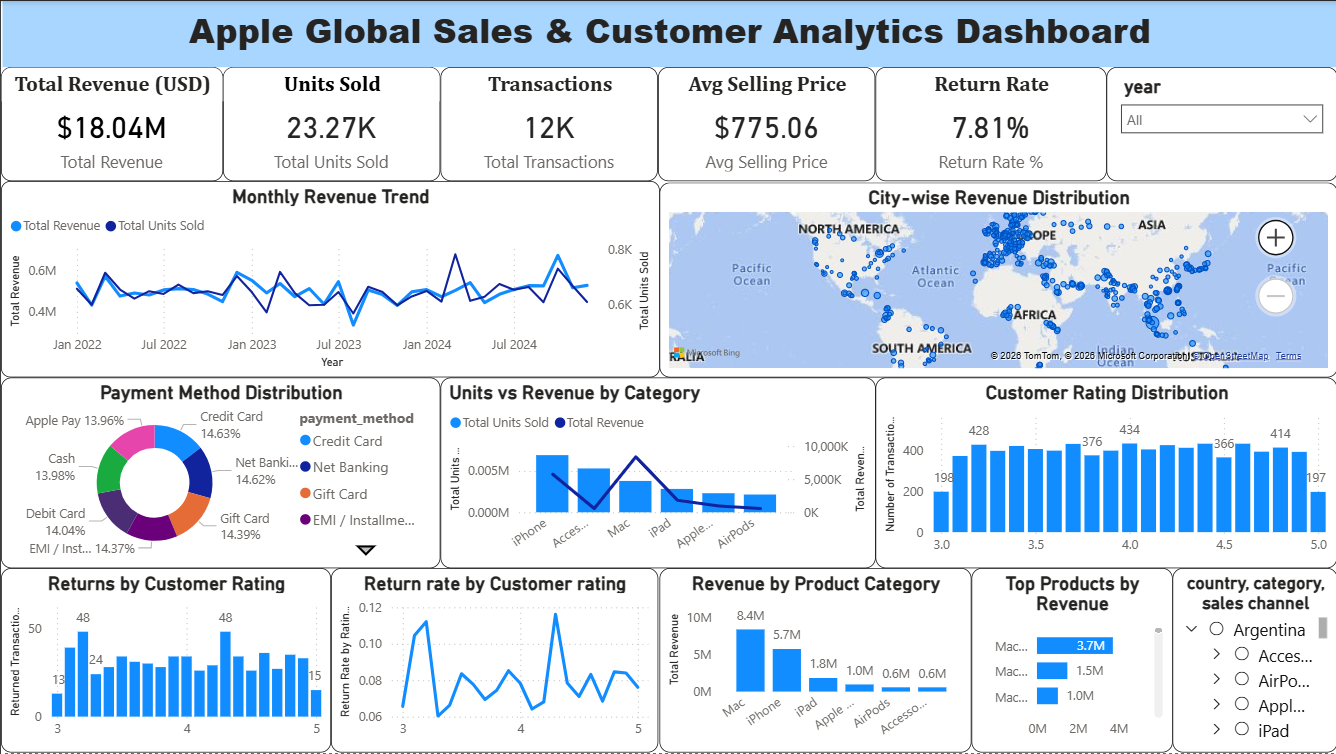

Layout of this report page (visuals, bound fields, positions):
{"tool":"powerbi","page":{"name":"BUSINESS INSIGHTS","canvas":[1280,720],"ordinal":0},"visuals":[{"type":"card","title":"Total Revenue (USD)","fields":{"Values":["apple_global_sales_dataset.Total Revenue"]},"box":[0,63.2,212.5,109.1],"z":0},{"type":"card","title":"Units Sold       ","fields":{"Values":["apple_global_sales_dataset.Total Units Sold"]},"box":[212.5,63.2,208.2,109.1],"z":1000},{"type":"card","title":"Transactions","fields":{"Values":["apple_global_sales_dataset.Total Transactions"]},"box":[420.8,63.2,208.2,109.1],"z":2000},{"type":"card","title":"Avg Selling Price","fields":{"Values":["apple_global_sales_dataset.Avg Selling Price"]},"box":[629,63.2,208.2,109.1],"z":3000},{"type":"card","title":"Return Rate","fields":{"Values":["apple_global_sales_dataset.Return Rate %"]},"box":[837.2,63.2,221.2,109.1],"z":4000},{"type":"slicer","fields":{"Values":["apple_global_sales_dataset.year"]},"box":[1058.4,63.2,221.2,109.1],"z":5000},{"type":"lineChart","title":"Monthly Revenue Trend","fields":{"Y":["apple_global_sales_dataset.Total Revenue"],"Y2":["apple_global_sales_dataset.Total Units Sold"],"Category":["apple_global_sales_dataset.sale_date.Variation.Date Hierarchy.Year","apple_global_sales_dataset.sale_date.Variation.Date Hierarchy.Month"]},"box":[0,172.3,630.4,188.1],"z":6000},{"type":"map","title":"City-wise Revenue Distribution","fields":{"Category":["apple_global_sales_dataset.city"],"Size":["apple_global_sales_dataset.Total Revenue"]},"box":[630.4,173.8,649.1,186.7],"z":7000},{"type":"donutChart","title":"Payment Method Distribution","fields":{"Category":["apple_global_sales_dataset.payment_method"],"Y":["apple_global_sales_dataset.Total Transactions"]},"box":[0,360.5,420.8,182.4],"z":8000},{"type":"clusteredColumnChart","title":"Customer Rating Distribution","fields":{"Category":["apple_global_sales_dataset.customer_rating"],"Y":["apple_global_sales_dataset.Total Transactions"]},"box":[837.2,360.5,442.3,182.4],"z":9000},{"type":"clusteredColumnChart","title":"Returns by Customer Rating","fields":{"Category":["apple_global_sales_dataset.customer_rating"],"Y":["apple_global_sales_dataset.Returned Transactions"]},"box":[0,542.8,315.9,176.6],"z":10000},{"type":"lineChart","title":"Return rate by Customer rating","fields":{"Category":["apple_global_sales_dataset.customer_rating"],"Y":["apple_global_sales_dataset.Return Rate by Rating %"]},"box":[315.9,542.8,313.1,176.6],"z":11000},{"type":"clusteredColumnChart","title":"Revenue by Product Category","fields":{"Category":["apple_global_sales_dataset.category"],"Y":["apple_global_sales_dataset.Total Revenue"]},"box":[630.4,542.8,298.7,176.6],"z":12000},{"type":"clusteredBarChart","title":"Top Products by Revenue","fields":{"Category":["apple_global_sales_dataset.product_name"],"Y":["apple_global_sales_dataset.Total Revenue"]},"box":[929.1,542.8,192.4,176.6],"z":13000},{"type":"lineClusteredColumnComboChart","title":"Units vs Revenue by Category","fields":{"Category":["apple_global_sales_dataset.category"],"Y":["apple_global_sales_dataset.Total Units Sold"],"Y2":["apple_global_sales_dataset.Total Revenue"]},"box":[420.8,360.5,416.5,182.4],"z":14000},{"type":"listSlicer","title":"country, category, sales channel","fields":{"Values":["apple_global_sales_dataset.country","apple_global_sales_dataset.category","apple_global_sales_dataset.sales_channel"]},"box":[1121.6,542.8,158,176.6],"z":15000},{"type":"textbox","box":[1.4,0,1278.1,63.2],"z":16000}]}

Visuals, with their boxes in screenshot pixels (x1, y1, x2, y2), scaled from the page's 1280x720 canvas onto the 1336x754 screenshot:
"Total Revenue (USD)" card: <box>0,66,222,180</box>
"Units Sold       " card: <box>222,66,439,180</box>
"Transactions" card: <box>439,66,657,180</box>
"Avg Selling Price" card: <box>657,66,874,180</box>
"Return Rate" card: <box>874,66,1105,180</box>
slicer - apple_global_sales_dataset.year: <box>1105,66,1335,180</box>
"Monthly Revenue Trend" lineChart: <box>0,180,658,377</box>
"City-wise Revenue Distribution" map: <box>658,182,1335,378</box>
"Payment Method Distribution" donutChart: <box>0,378,439,569</box>
"Customer Rating Distribution" clusteredColumnChart: <box>874,378,1335,569</box>
"Returns by Customer Rating" clusteredColumnChart: <box>0,568,330,753</box>
"Return rate by Customer rating" lineChart: <box>330,568,657,753</box>
"Revenue by Product Category" clusteredColumnChart: <box>658,568,970,753</box>
"Top Products by Revenue" clusteredBarChart: <box>970,568,1171,753</box>
"Units vs Revenue by Category" lineClusteredColumnComboChart: <box>439,378,874,569</box>
"country, category, sales channel" listSlicer: <box>1171,568,1335,753</box>
textbox: <box>1,0,1335,66</box>
